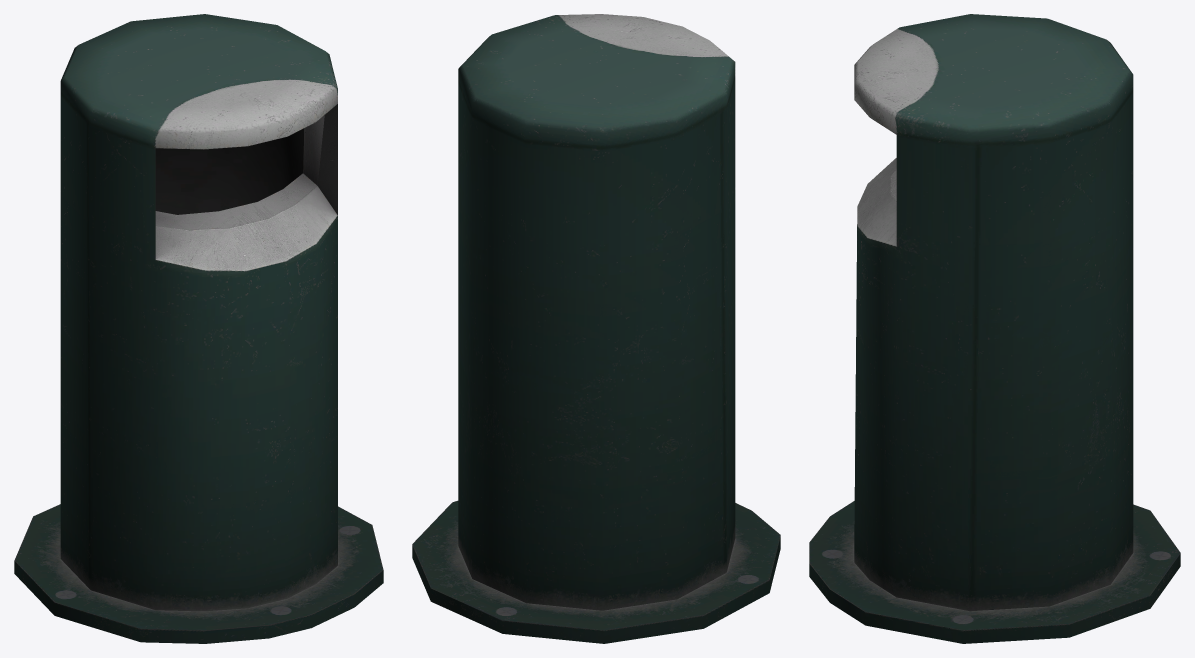
The model's file is SM_Public_Trash_Bin.FBX.
The picture shows the model from 3 angles, left to right: view 1: azimuth 30°, elevation 25°; view 2: azimuth 150°, elevation 25°; view 3: azimuth 270°, elevation 25°; orthographic projection.
Visible parts, largest first — view 1: SM_Public_Trash_Bin; view 2: SM_Public_Trash_Bin; view 3: SM_Public_Trash_Bin.
Boxes of the visible parts, x1=… form: SM_Public_Trash_Bin: x1=14, y1=14, x2=383, y2=643; SM_Public_Trash_Bin: x1=412, y1=14, x2=780, y2=643; SM_Public_Trash_Bin: x1=809, y1=14, x2=1180, y2=643.
Size of the model in its own units: 64.69 by 65.4 by 97.13.
